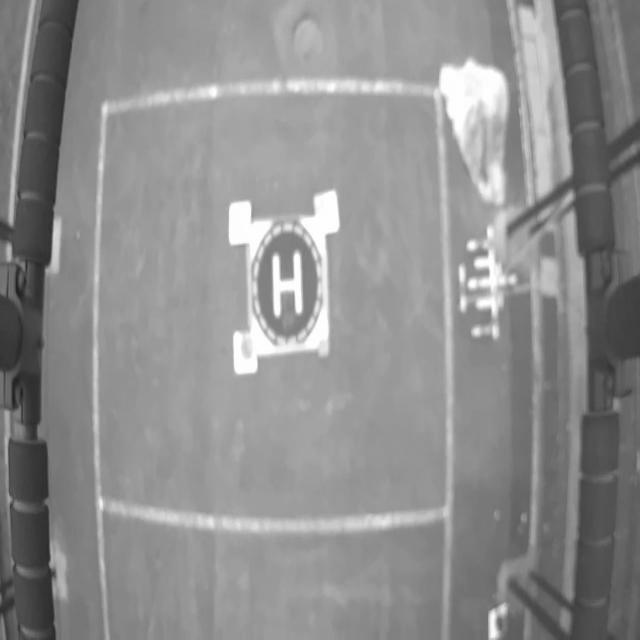Helipad: (272, 251, 303, 319)
